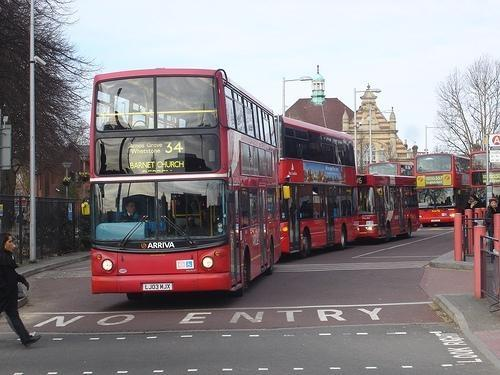bus: (90, 70, 282, 302), (280, 114, 360, 262), (412, 153, 471, 227), (360, 174, 420, 241), (470, 150, 500, 206)
